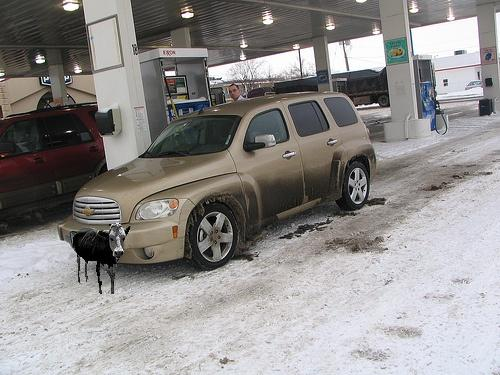tampered: (74, 224, 131, 294)
